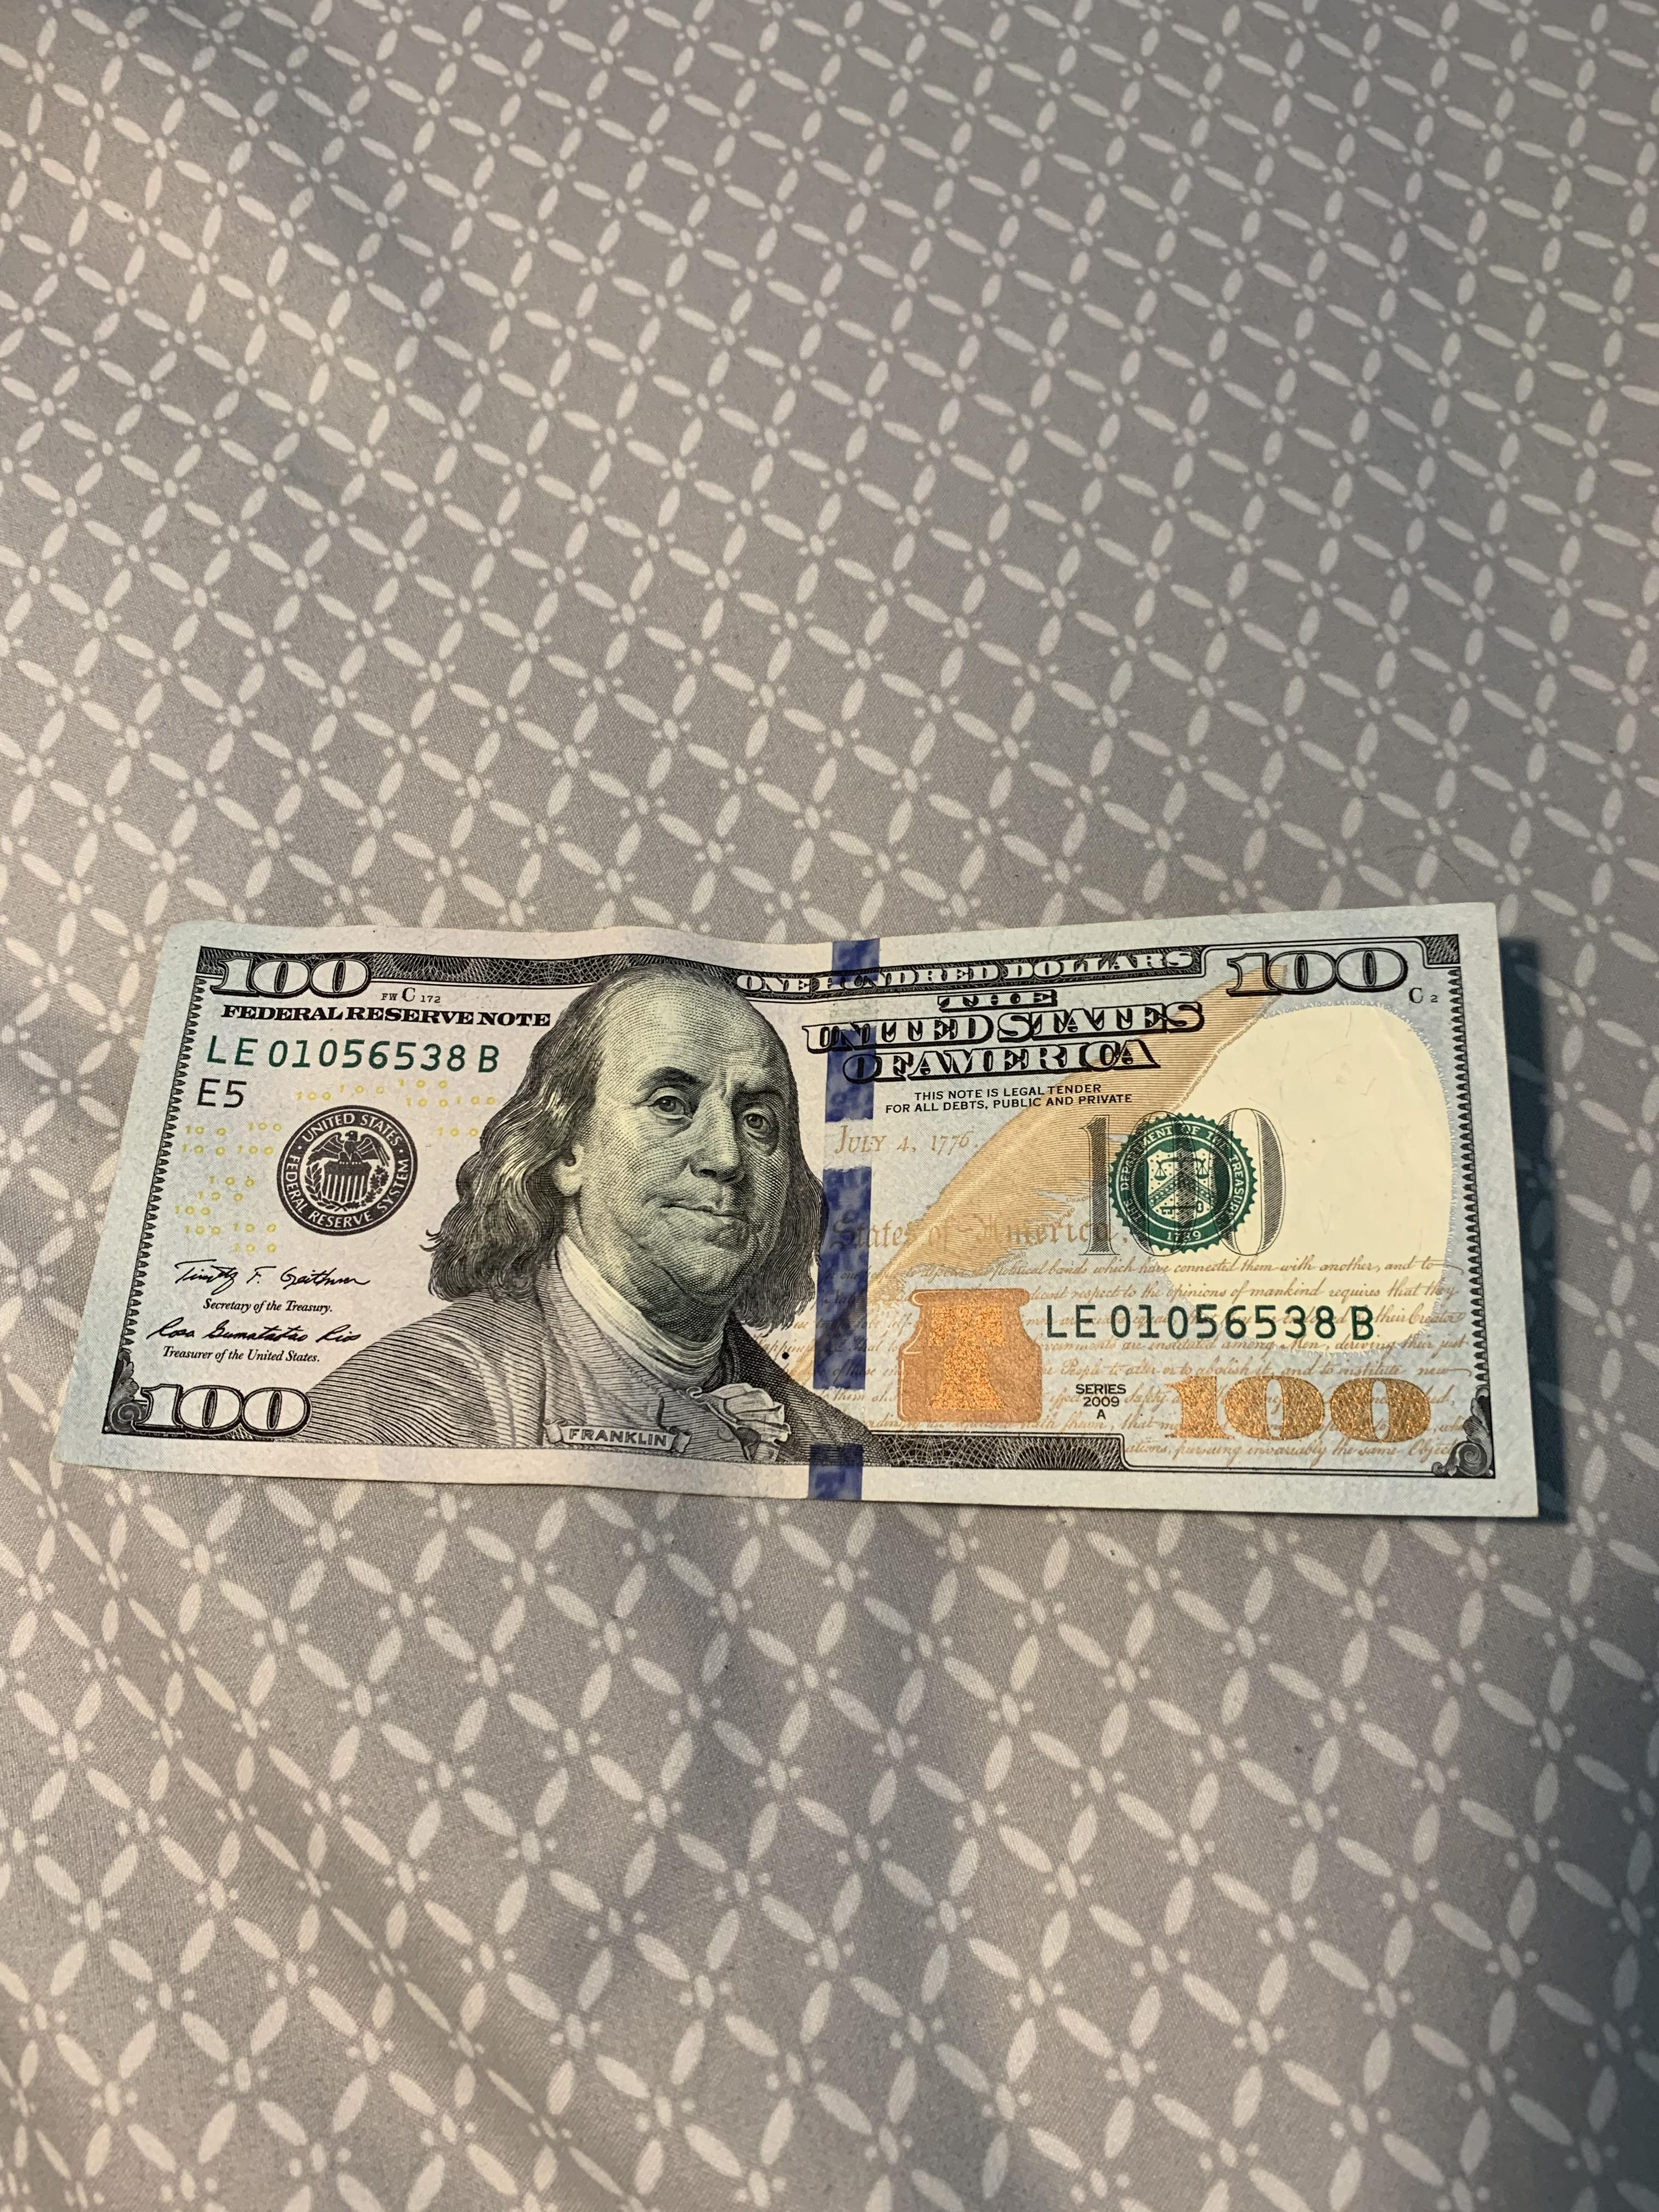HundredBill: (45, 890, 1568, 1543)
